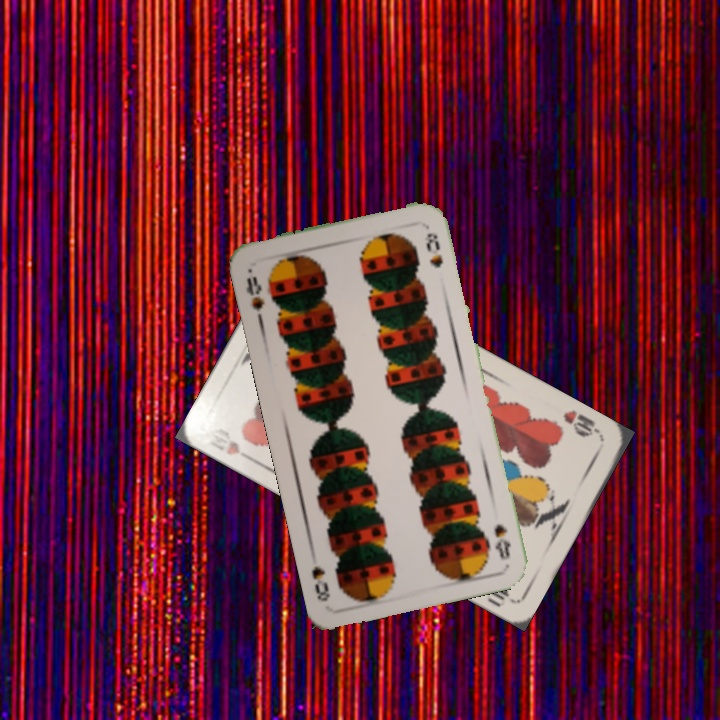H10: (559, 406, 604, 440), (221, 436, 258, 465)
S8: (241, 272, 267, 322), (490, 520, 513, 563)
